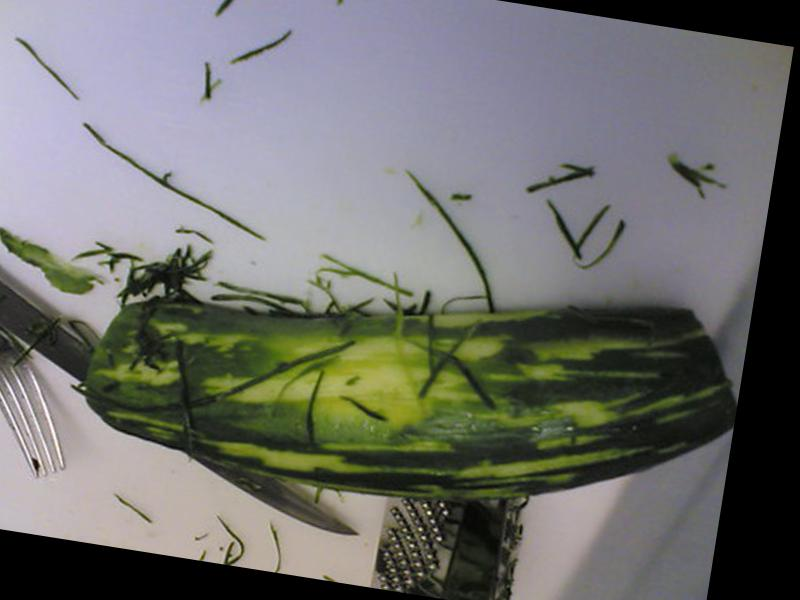Cucumber: (74, 217, 747, 548)
